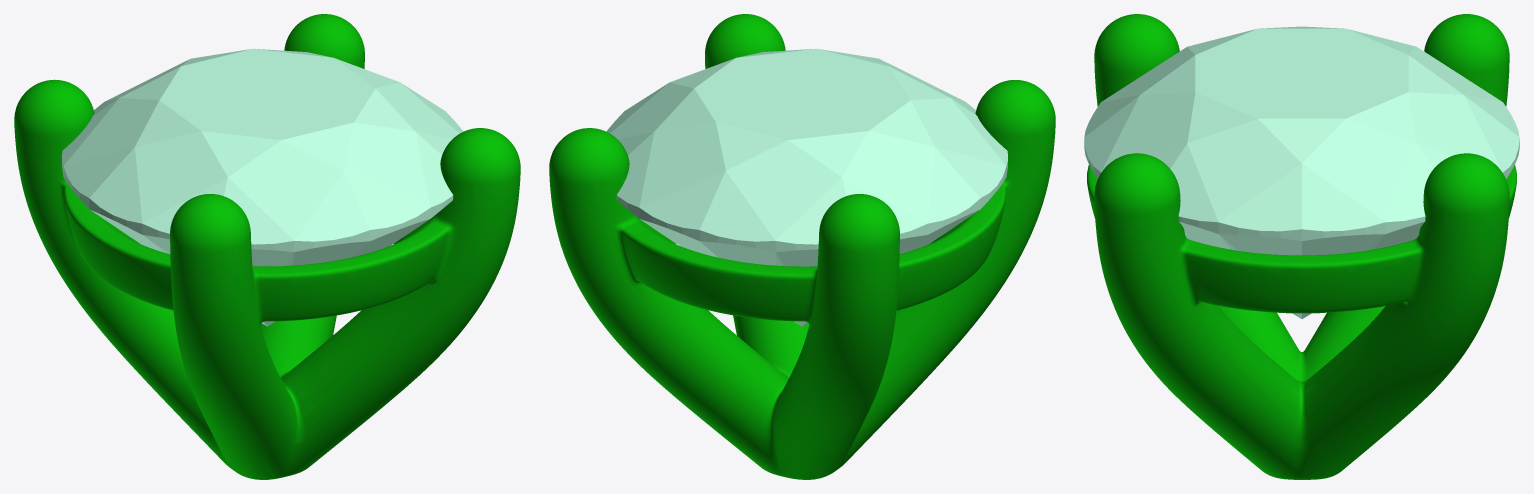
The picture shows the model from 3 angles, left to right: view 1: azimuth 30°, elevation 25°; view 2: azimuth 150°, elevation 25°; view 3: azimuth 270°, elevation 25°; orthographic projection. The views are drawn at different scales.
Visible parts, largest first — view 1: Metal01, CS_Diamond; view 2: Metal01, CS_Diamond; view 3: Metal01, CS_Diamond.
Part boxes in pixels (bbox=[...]): Metal01: bbox=[14, 14, 520, 479]; CS_Diamond: bbox=[62, 48, 463, 326]; Metal01: bbox=[549, 14, 1055, 479]; CS_Diamond: bbox=[606, 48, 1007, 326]; Metal01: bbox=[1087, 14, 1516, 479]; CS_Diamond: bbox=[1084, 26, 1519, 318].
Bounding box in the file's own units: 5.2 × 5.16 × 5.2.
